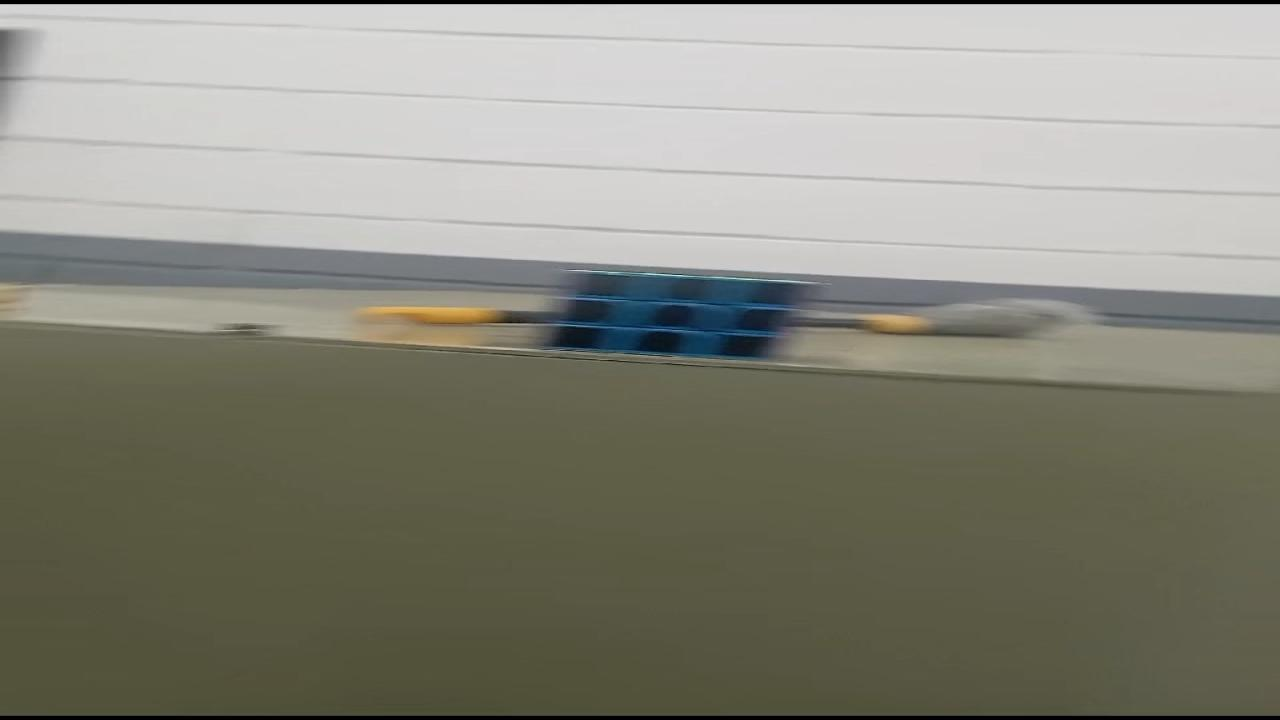Cube: (536, 268, 827, 360)
